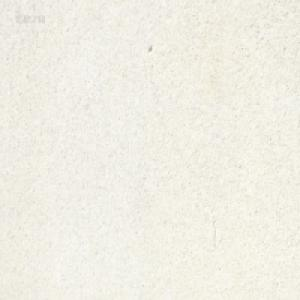Wrench: (190, 0, 197, 5)
